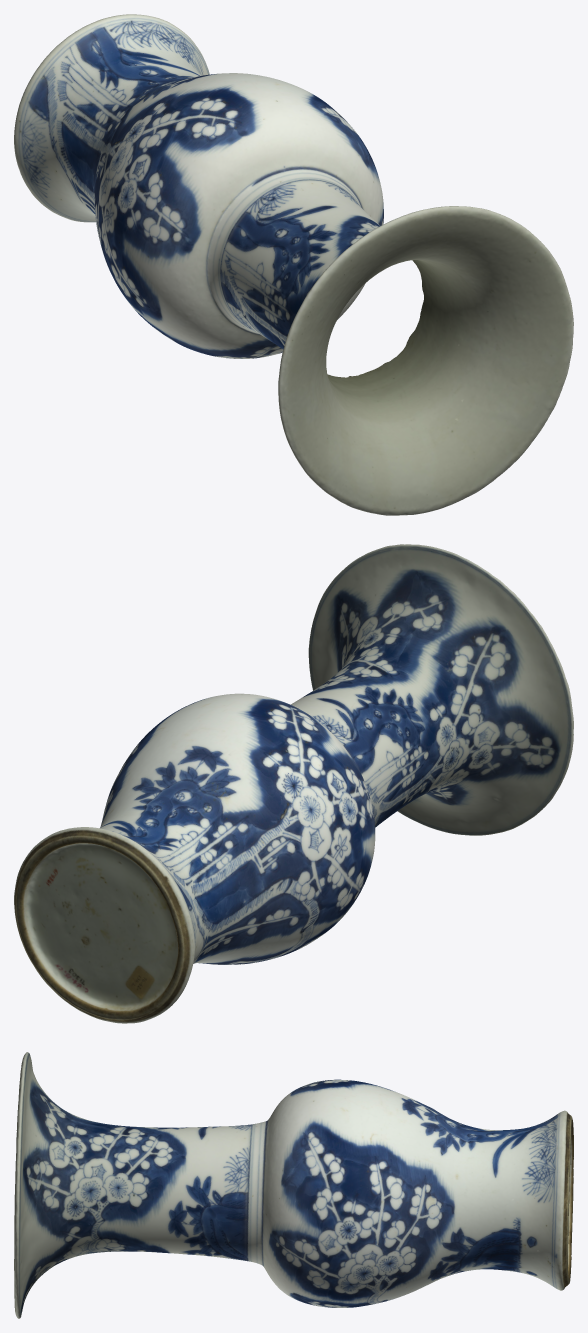
Rendered from vase-200k-4096-high.glb.
3 renders of one model, top to bottom at view 1: azimuth 30°, elevation 25°; view 2: azimuth 150°, elevation 25°; view 3: azimuth 270°, elevation 25°, orthographic. The views are drawn at different scales.
Size of the model in its own units: 0.2218 by 0.2215 by 0.4641.
1 material, 1 textured.
